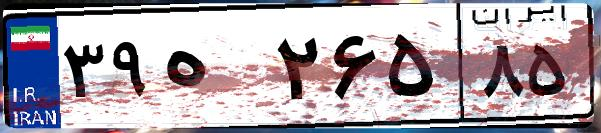2: (270, 28, 330, 110)
3: (57, 26, 110, 100)
5: (385, 28, 445, 110), (525, 38, 570, 115)
6: (330, 28, 385, 110)
8: (475, 38, 525, 113)
9: (110, 28, 158, 98)
ه: (158, 20, 270, 120)
